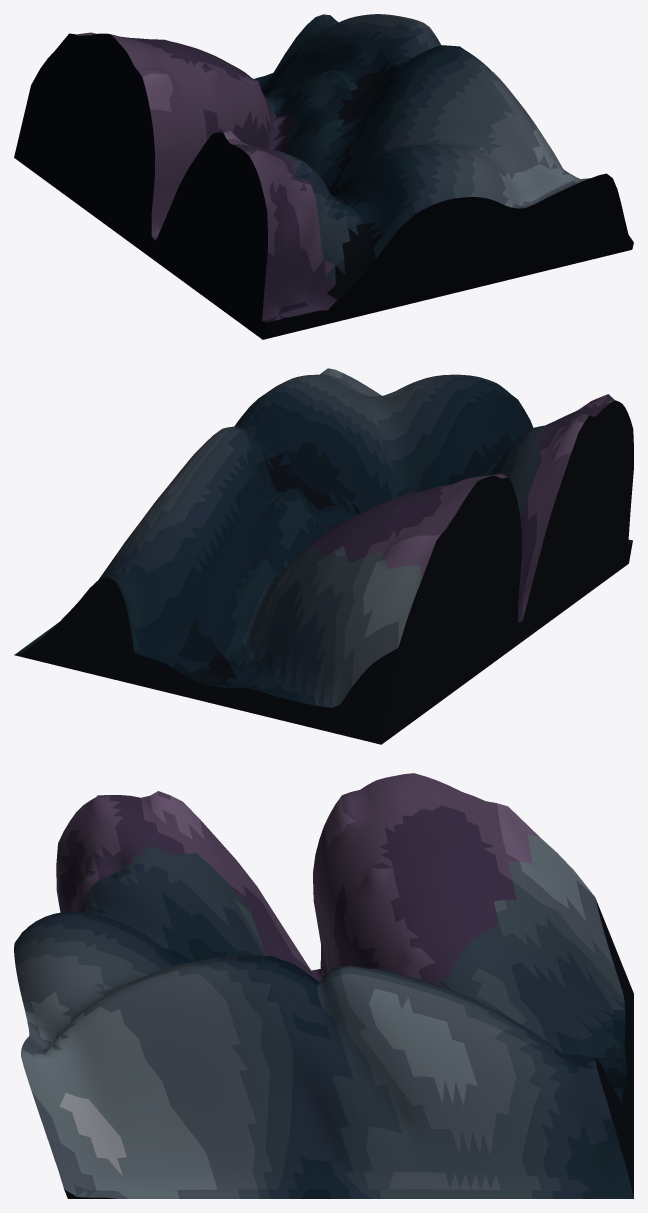
The model's file is gyges_maw_45.glb.
The picture shows the model from 3 angles, top to bottom: view 1: azimuth 30°, elevation 25°; view 2: azimuth 150°, elevation 25°; view 3: azimuth 270°, elevation 25°; orthographic projection. The views are drawn at different scales.
Parts seen in each view (by area): view 1: gyges_maw_45; view 2: gyges_maw_45; view 3: gyges_maw_45.
Boxes of the visible parts, x1,y1,x2,y2 form: gyges_maw_45: (14, 14, 633, 339); gyges_maw_45: (14, 368, 633, 744); gyges_maw_45: (14, 773, 633, 1198).
Size of the model in its own units: 24 by 12.05 by 30.67.
